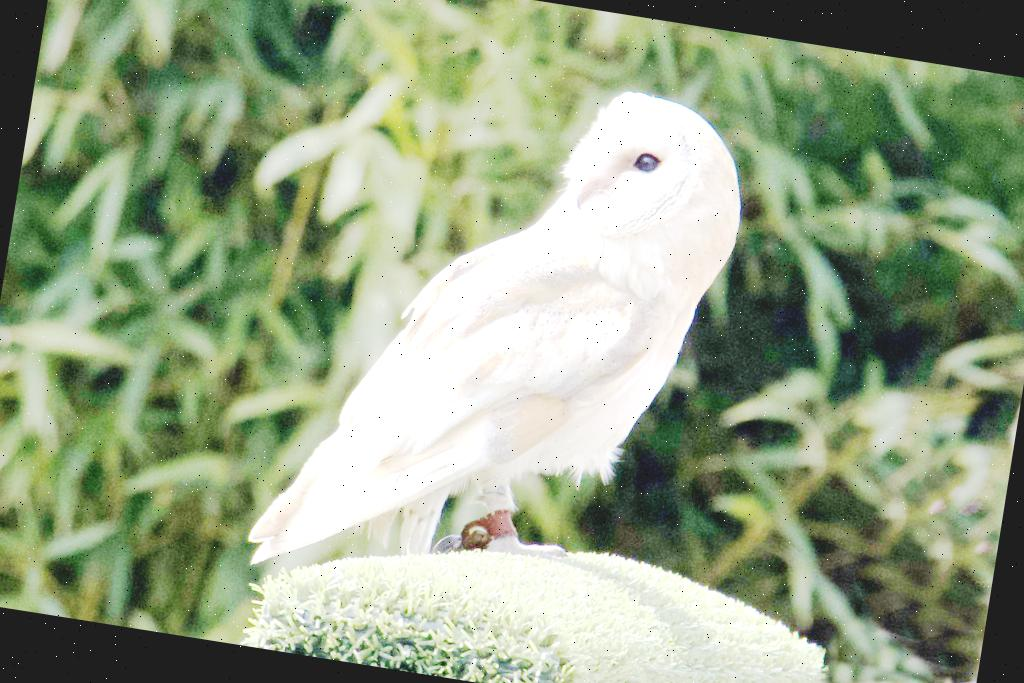Owl: (248, 39, 764, 638)
